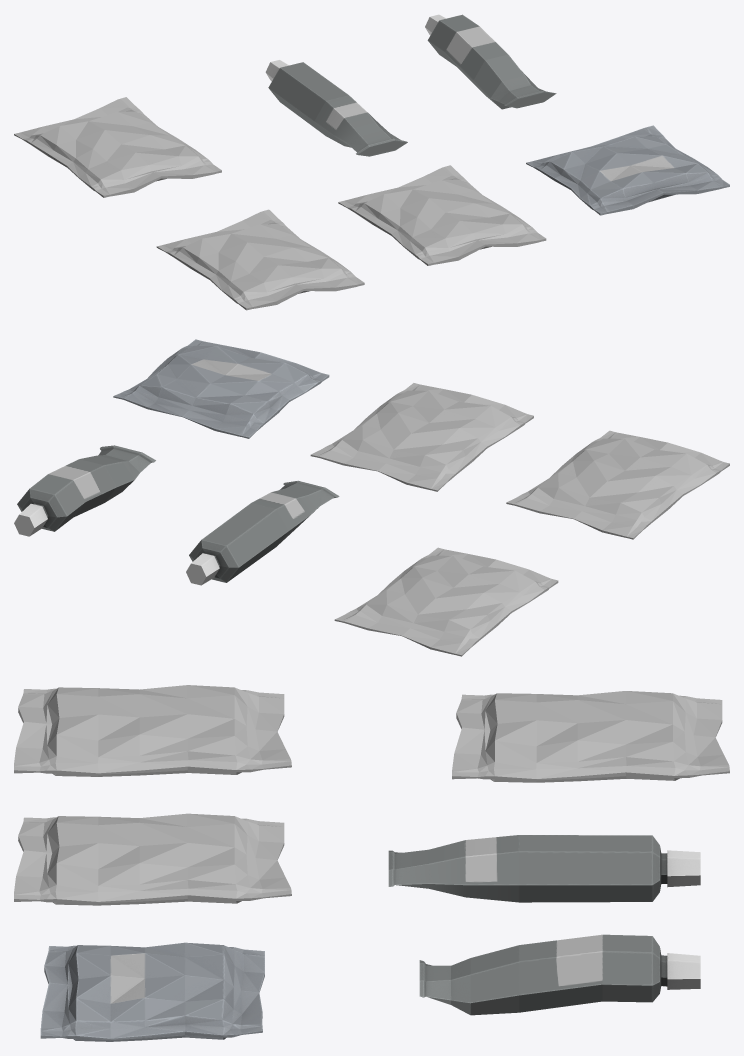
Rendered from Astronaut food.glb.
3 views of the same model, one above another, from view 1: azimuth 30°, elevation 25°; view 2: azimuth 150°, elevation 25°; view 3: azimuth 270°, elevation 25° (orthographic). The views are drawn at different scales.
Visible parts, largest first — view 1: SpaceFood_mesh; view 2: SpaceFood_mesh; view 3: SpaceFood_mesh.
Part boxes in pixels (x1,y1,x2,y2): SpaceFood_mesh: (14,14,729,310); SpaceFood_mesh: (14,339,729,656); SpaceFood_mesh: (14,685,729,1041).
Size of the model in its own units: 25.49 by 2.19 by 22.14.
2 materials, 1 textured.
